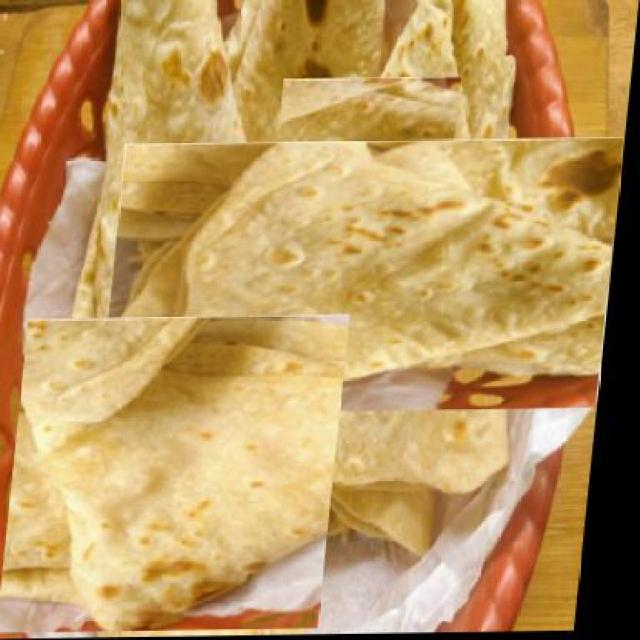chapati: (173, 66, 625, 489), (12, 314, 357, 637), (61, 0, 294, 403), (165, 37, 426, 281)
